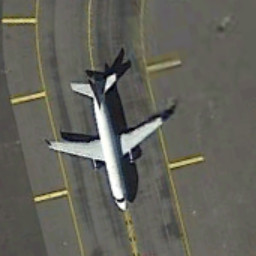Airplane: (43, 65, 172, 217)
